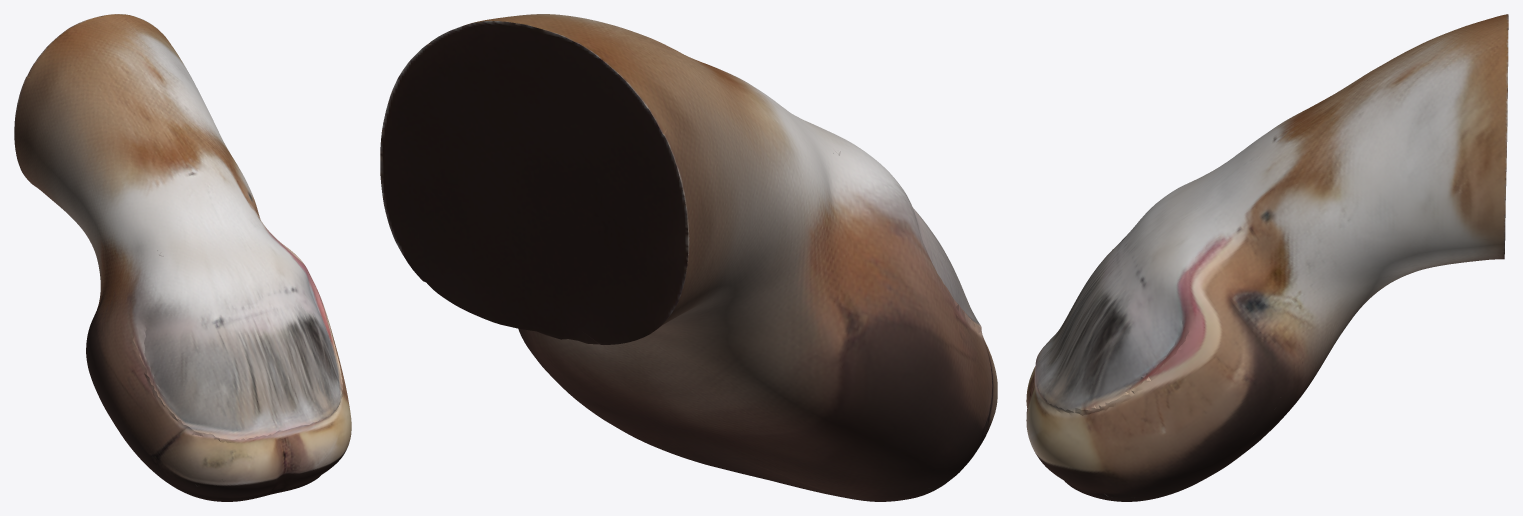
File: horse_hoof.glb
3 renders of one model, left to right at view 1: azimuth 30°, elevation 25°; view 2: azimuth 150°, elevation 25°; view 3: azimuth 270°, elevation 25°, orthographic. The views are drawn at different scales.
Visible parts, largest first — view 1: model; view 2: model; view 3: model.
Part boxes in pixels (x1=…): model: x1=14, y1=14, x2=351, y2=501; model: x1=380, y1=14, x2=997, y2=501; model: x1=1026, y1=14, x2=1508, y2=501.
Size of the model in its own units: 1.25 by 1.9 by 1.86.
1 material, 1 textured.
